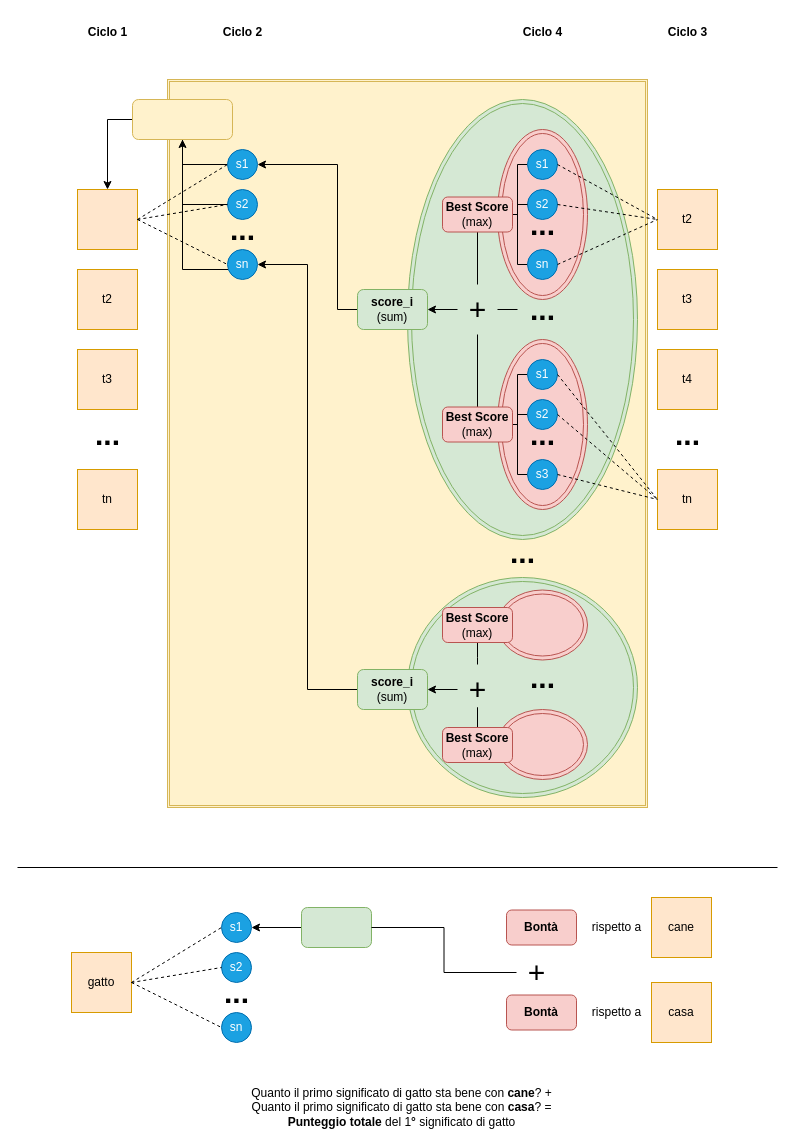
This 796x1146 diagram has some shape labels left out. The shapes that lost their labels are listed below. From the top down, each one's centre as x and y in pixels, then its label:
(x=182, y=119): selScore (max)
(x=107, y=219): t1
(x=336, y=927): Punteggio Totale
